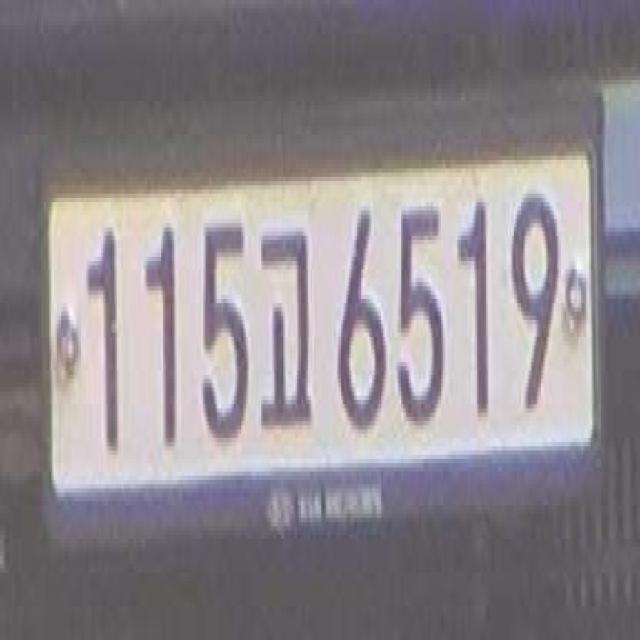illegal_plate: (36, 167, 606, 547)
